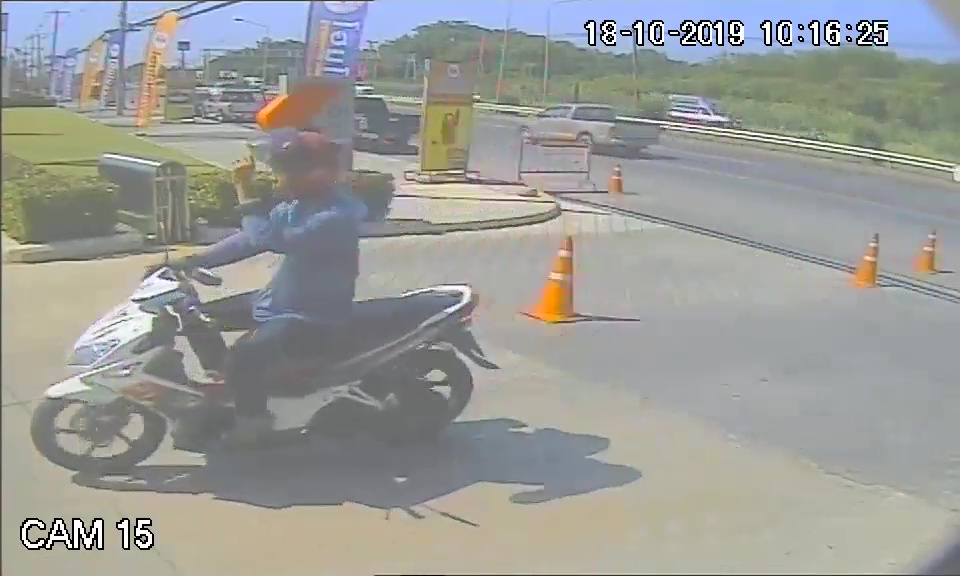motorcycle: (26, 263, 502, 475)
